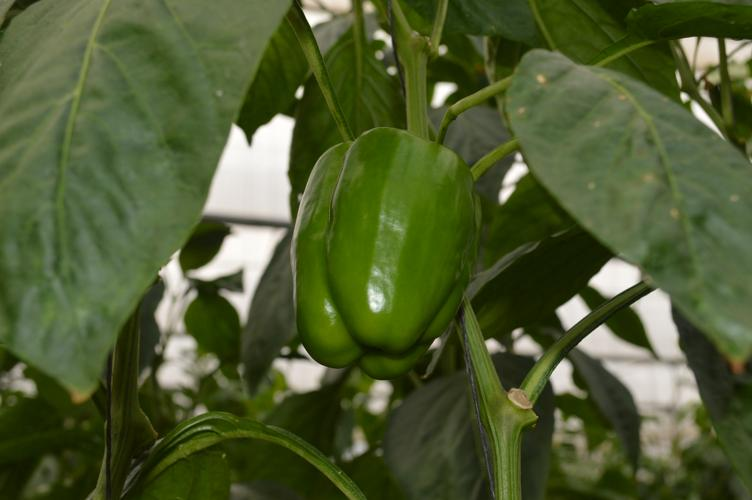BellPepper: (287, 126, 471, 373)
